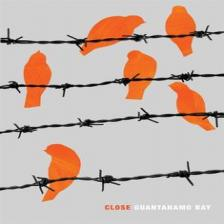orange: (87, 16, 145, 40), (45, 145, 80, 180), (170, 83, 206, 113), (124, 50, 157, 79), (24, 51, 51, 85), (166, 5, 196, 35), (42, 181, 72, 202), (80, 41, 120, 55), (80, 41, 120, 55), (126, 81, 151, 99), (184, 117, 215, 131), (172, 37, 193, 56), (25, 88, 44, 108)
